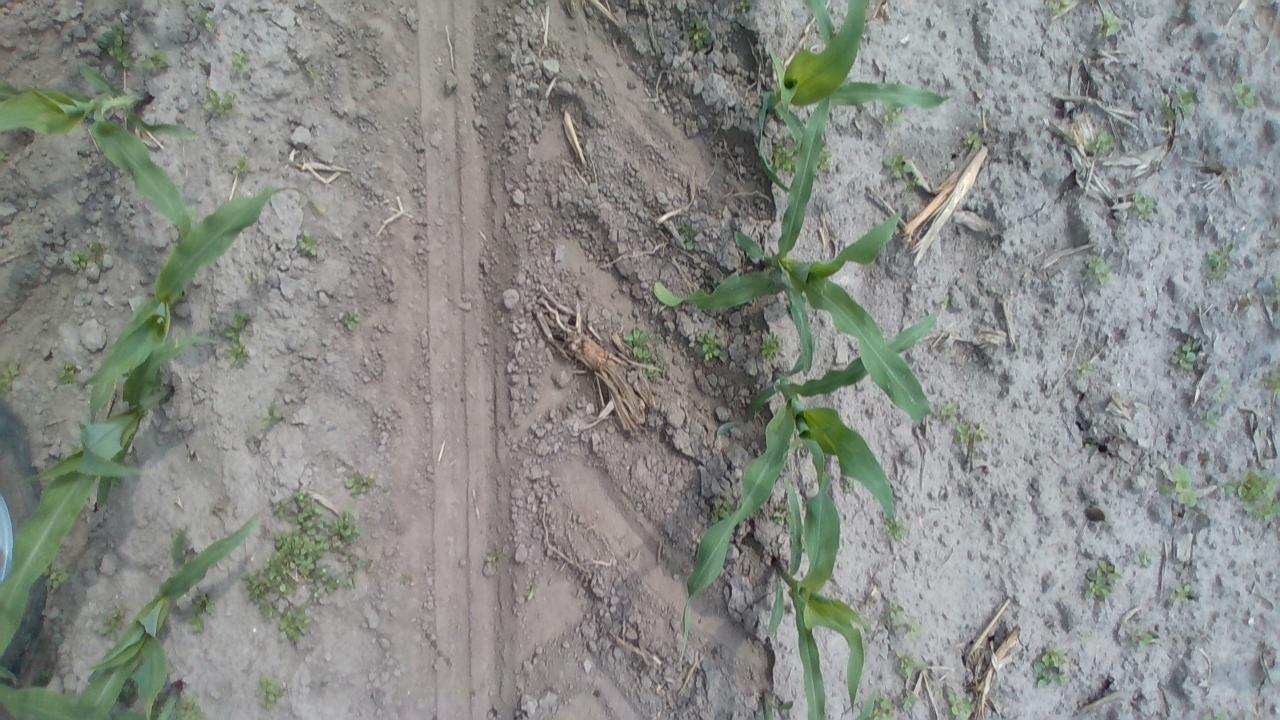Maize: (650, 81, 940, 432), (677, 302, 948, 668), (0, 326, 220, 656), (89, 182, 307, 422), (746, 0, 950, 198), (75, 511, 268, 720), (0, 60, 203, 246), (760, 436, 864, 720), (0, 663, 143, 718), (759, 692, 875, 720)
Weeds: (240, 487, 368, 642), (1232, 467, 1277, 525), (622, 324, 668, 380), (222, 312, 256, 370), (1030, 641, 1070, 690), (1156, 462, 1196, 510), (98, 18, 134, 71), (1158, 84, 1198, 126), (187, 588, 220, 636), (882, 154, 921, 194), (1083, 559, 1119, 602), (94, 603, 129, 643), (1226, 77, 1263, 114), (254, 671, 288, 708), (690, 326, 724, 362), (169, 525, 197, 568), (1170, 336, 1202, 373), (1205, 243, 1234, 282), (344, 470, 378, 501), (944, 686, 975, 719), (54, 359, 87, 390), (204, 88, 239, 117), (953, 420, 989, 448), (896, 652, 930, 681), (257, 400, 286, 434), (881, 511, 910, 544), (772, 138, 798, 174), (292, 228, 321, 260), (136, 50, 173, 75), (111, 678, 141, 708), (879, 99, 908, 130), (1083, 255, 1114, 284), (173, 695, 210, 719), (70, 244, 104, 270), (0, 358, 22, 398), (1088, 128, 1118, 157), (686, 20, 714, 51), (190, 8, 218, 38), (759, 331, 787, 361), (709, 497, 737, 527), (1094, 13, 1122, 42), (230, 48, 255, 80), (878, 601, 908, 627), (336, 306, 362, 335), (485, 543, 515, 568), (1130, 189, 1154, 220), (230, 153, 256, 179), (46, 564, 70, 592), (1169, 582, 1195, 607), (680, 222, 700, 254), (1127, 627, 1156, 649), (1202, 408, 1224, 434), (1043, 1, 1076, 18), (936, 401, 962, 422), (816, 141, 832, 174), (958, 130, 982, 151), (770, 502, 790, 527), (874, 696, 896, 718), (1072, 360, 1096, 380), (906, 618, 926, 642), (1133, 548, 1153, 570), (899, 692, 919, 714), (1214, 380, 1234, 401), (1198, 708, 1234, 719), (734, 0, 756, 18), (1260, 371, 1276, 393), (304, 63, 322, 82), (1216, 478, 1232, 498), (522, 585, 538, 604), (398, 574, 416, 590), (844, 477, 858, 496), (1271, 274, 1280, 302), (244, 272, 259, 288), (1081, 438, 1097, 450), (40, 668, 54, 680)
